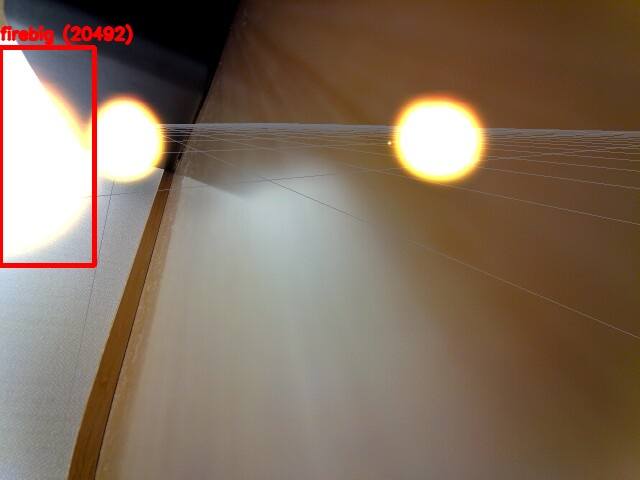firebig: (0, 47, 94, 265)
